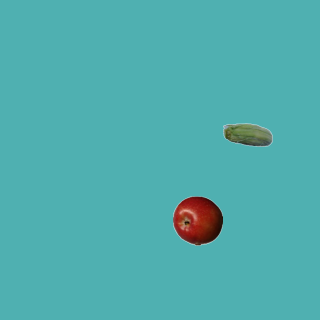Apple Braeburn: (172, 195, 222, 245)
Corn Husk: (222, 111, 272, 161)
